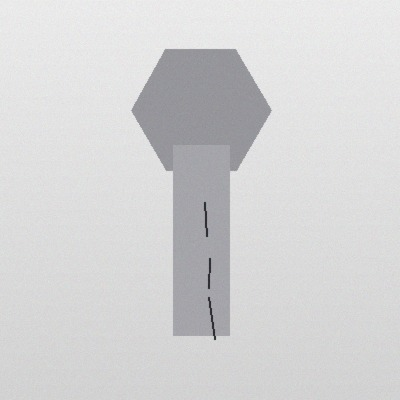scratch: (202, 293, 220, 343), (198, 198, 212, 240), (202, 254, 215, 292)
